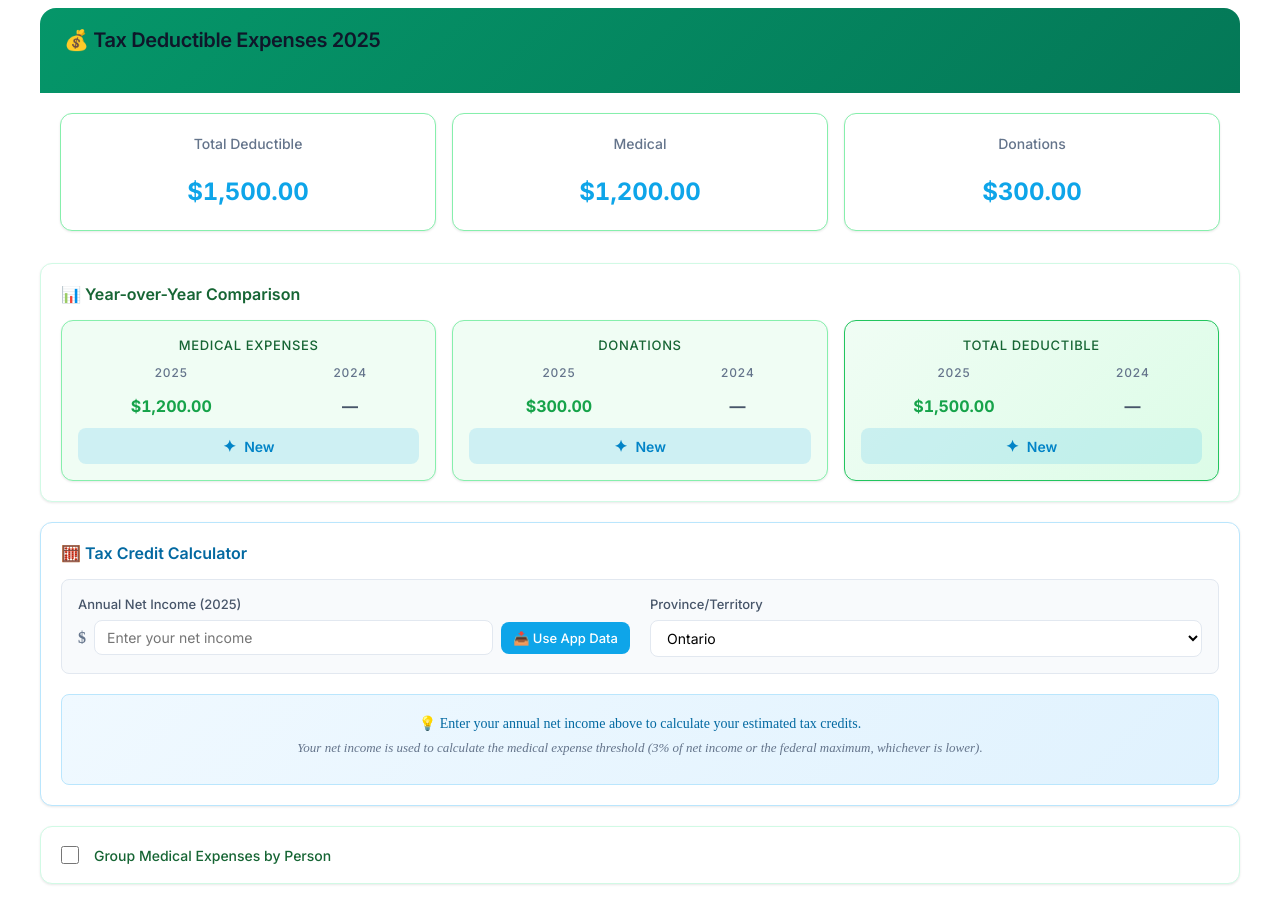
it: TaxDeductible › Unassigned Expenses Handling › should expand unassigned section to show expenses
Expected: the text "Group Medical Expenses by Person" is shown, top-left (94, 847), bottom-right (331, 864)
Click the checkbox.
click(70, 855)  # box top-left (61, 846), bottom-right (79, 864)
(page scrolled)
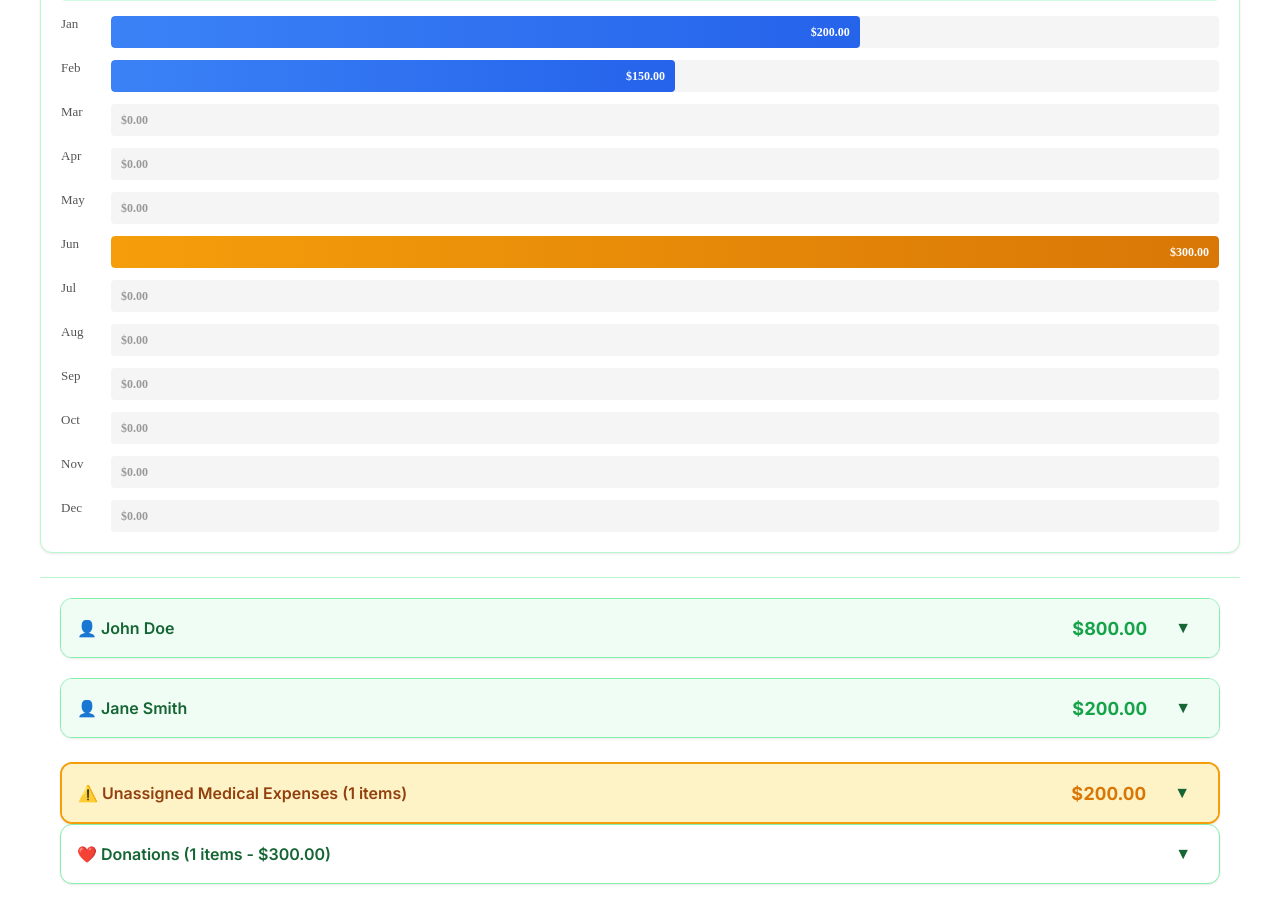
Expected: the heading "⚠️ Unassigned Medical Expenses (1 items)" is shown, top-left (78, 783), bottom-right (407, 803)
# Click to expand unassigned section
Click the text "⚠️ Unassigned Medical Expenses (1 items) $200.00 ▼".
click(640, 793)  # box top-left (62, 764), bottom-right (1218, 822)
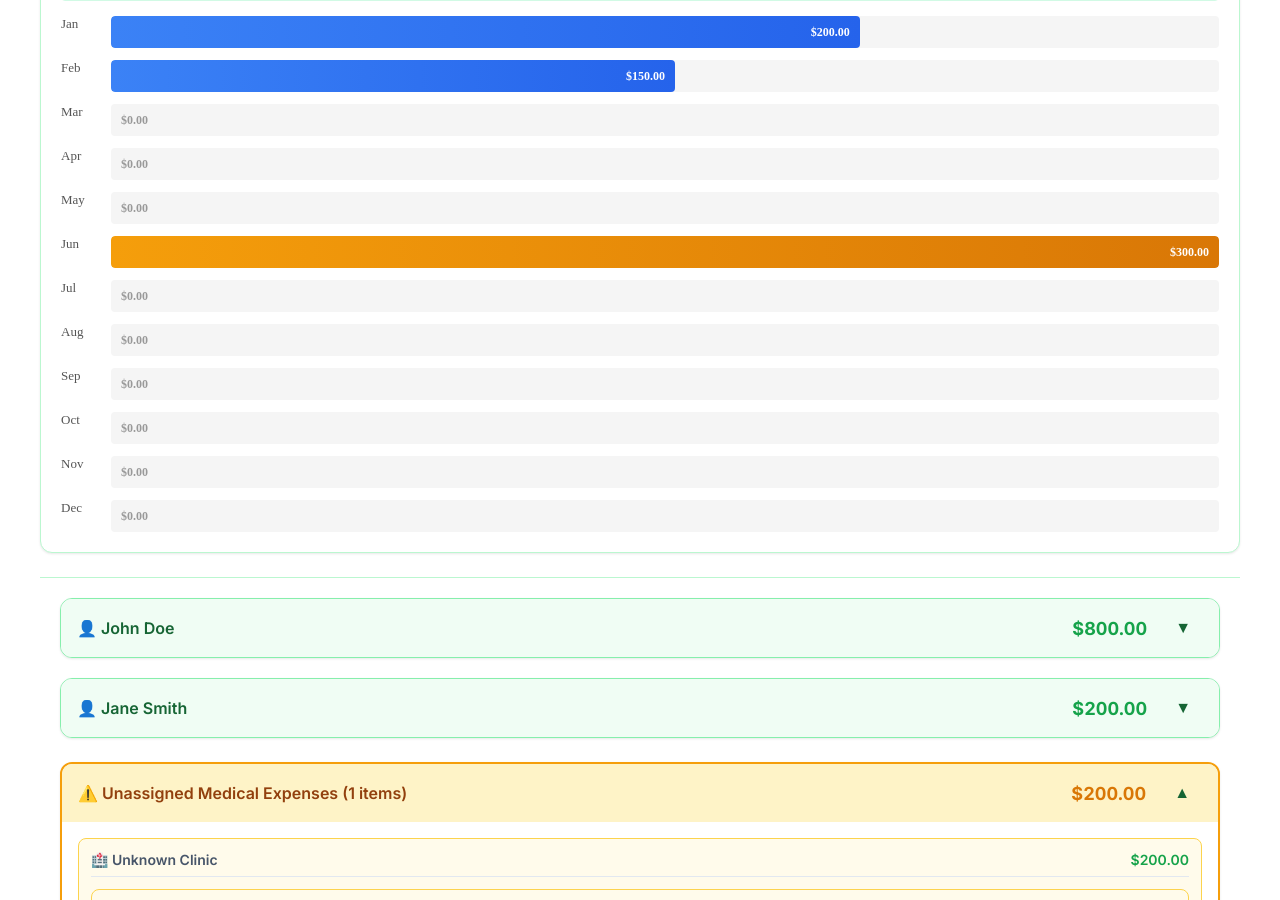
Expected: the text "🏥 Unknown Clinic" is shown, top-left (91, 851), bottom-right (218, 868)
